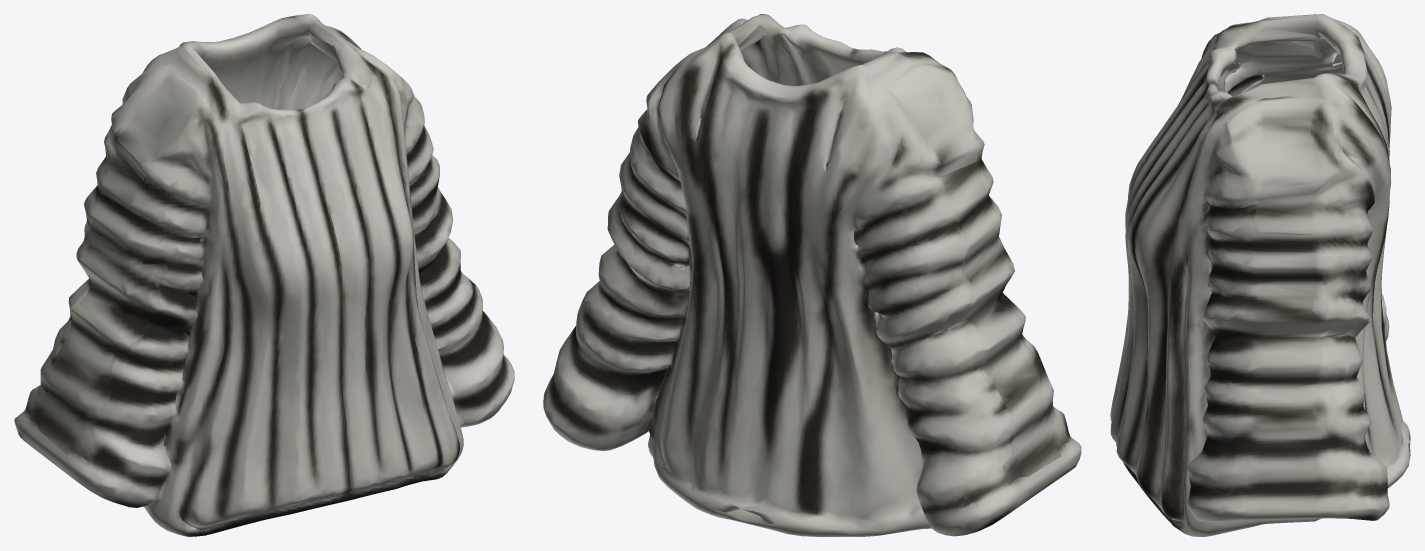
Rendered from Chibi Girl Sweater.glb.
The picture shows the model from 3 angles, left to right: view 1: azimuth 30°, elevation 25°; view 2: azimuth 150°, elevation 25°; view 3: azimuth 270°, elevation 25°; orthographic projection. The views are drawn at different scales.
Visible parts, largest first — view 1: geometry_0.002; view 2: geometry_0.002; view 3: geometry_0.002.
Boxes of the visible parts, x1=… form: geometry_0.002: x1=14, y1=14, x2=514, y2=536; geometry_0.002: x1=543, y1=14, x2=1081, y2=536; geometry_0.002: x1=1110, y1=14, x2=1410, y2=536.
Bounding box in the file's own units: 0.3509 × 0.3253 × 0.2065.
1 material, 1 textured.
